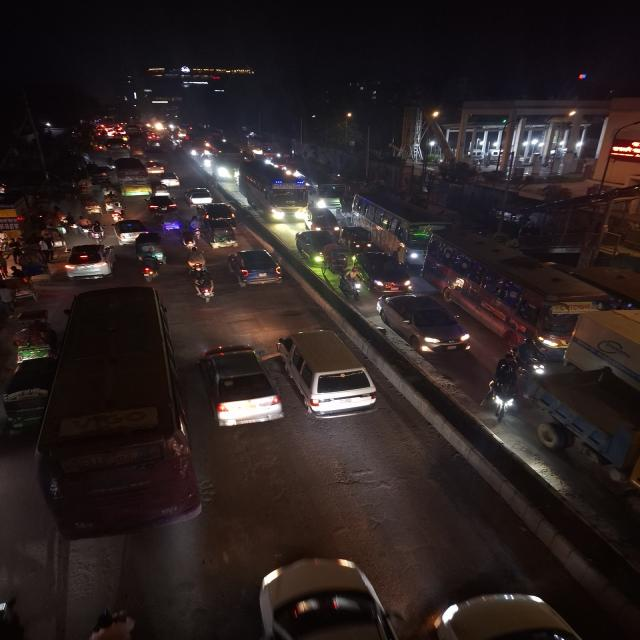bus: (30, 286, 201, 546), (426, 221, 628, 359), (237, 159, 314, 223), (360, 200, 432, 254), (307, 176, 347, 212), (111, 163, 152, 197)
car: (277, 324, 382, 428), (197, 340, 285, 432), (377, 287, 472, 358), (224, 248, 284, 292), (363, 251, 413, 296), (61, 240, 116, 278), (115, 216, 155, 245), (197, 203, 239, 225), (148, 192, 178, 216), (184, 184, 216, 205)
cng: (341, 224, 375, 252), (209, 226, 240, 250)
motorcycle: (484, 356, 524, 426), (511, 335, 553, 383), (133, 255, 167, 285), (339, 264, 365, 300), (192, 271, 220, 304), (181, 242, 207, 273), (85, 221, 109, 244)
rickshaw: (319, 243, 349, 277), (74, 193, 103, 217)
